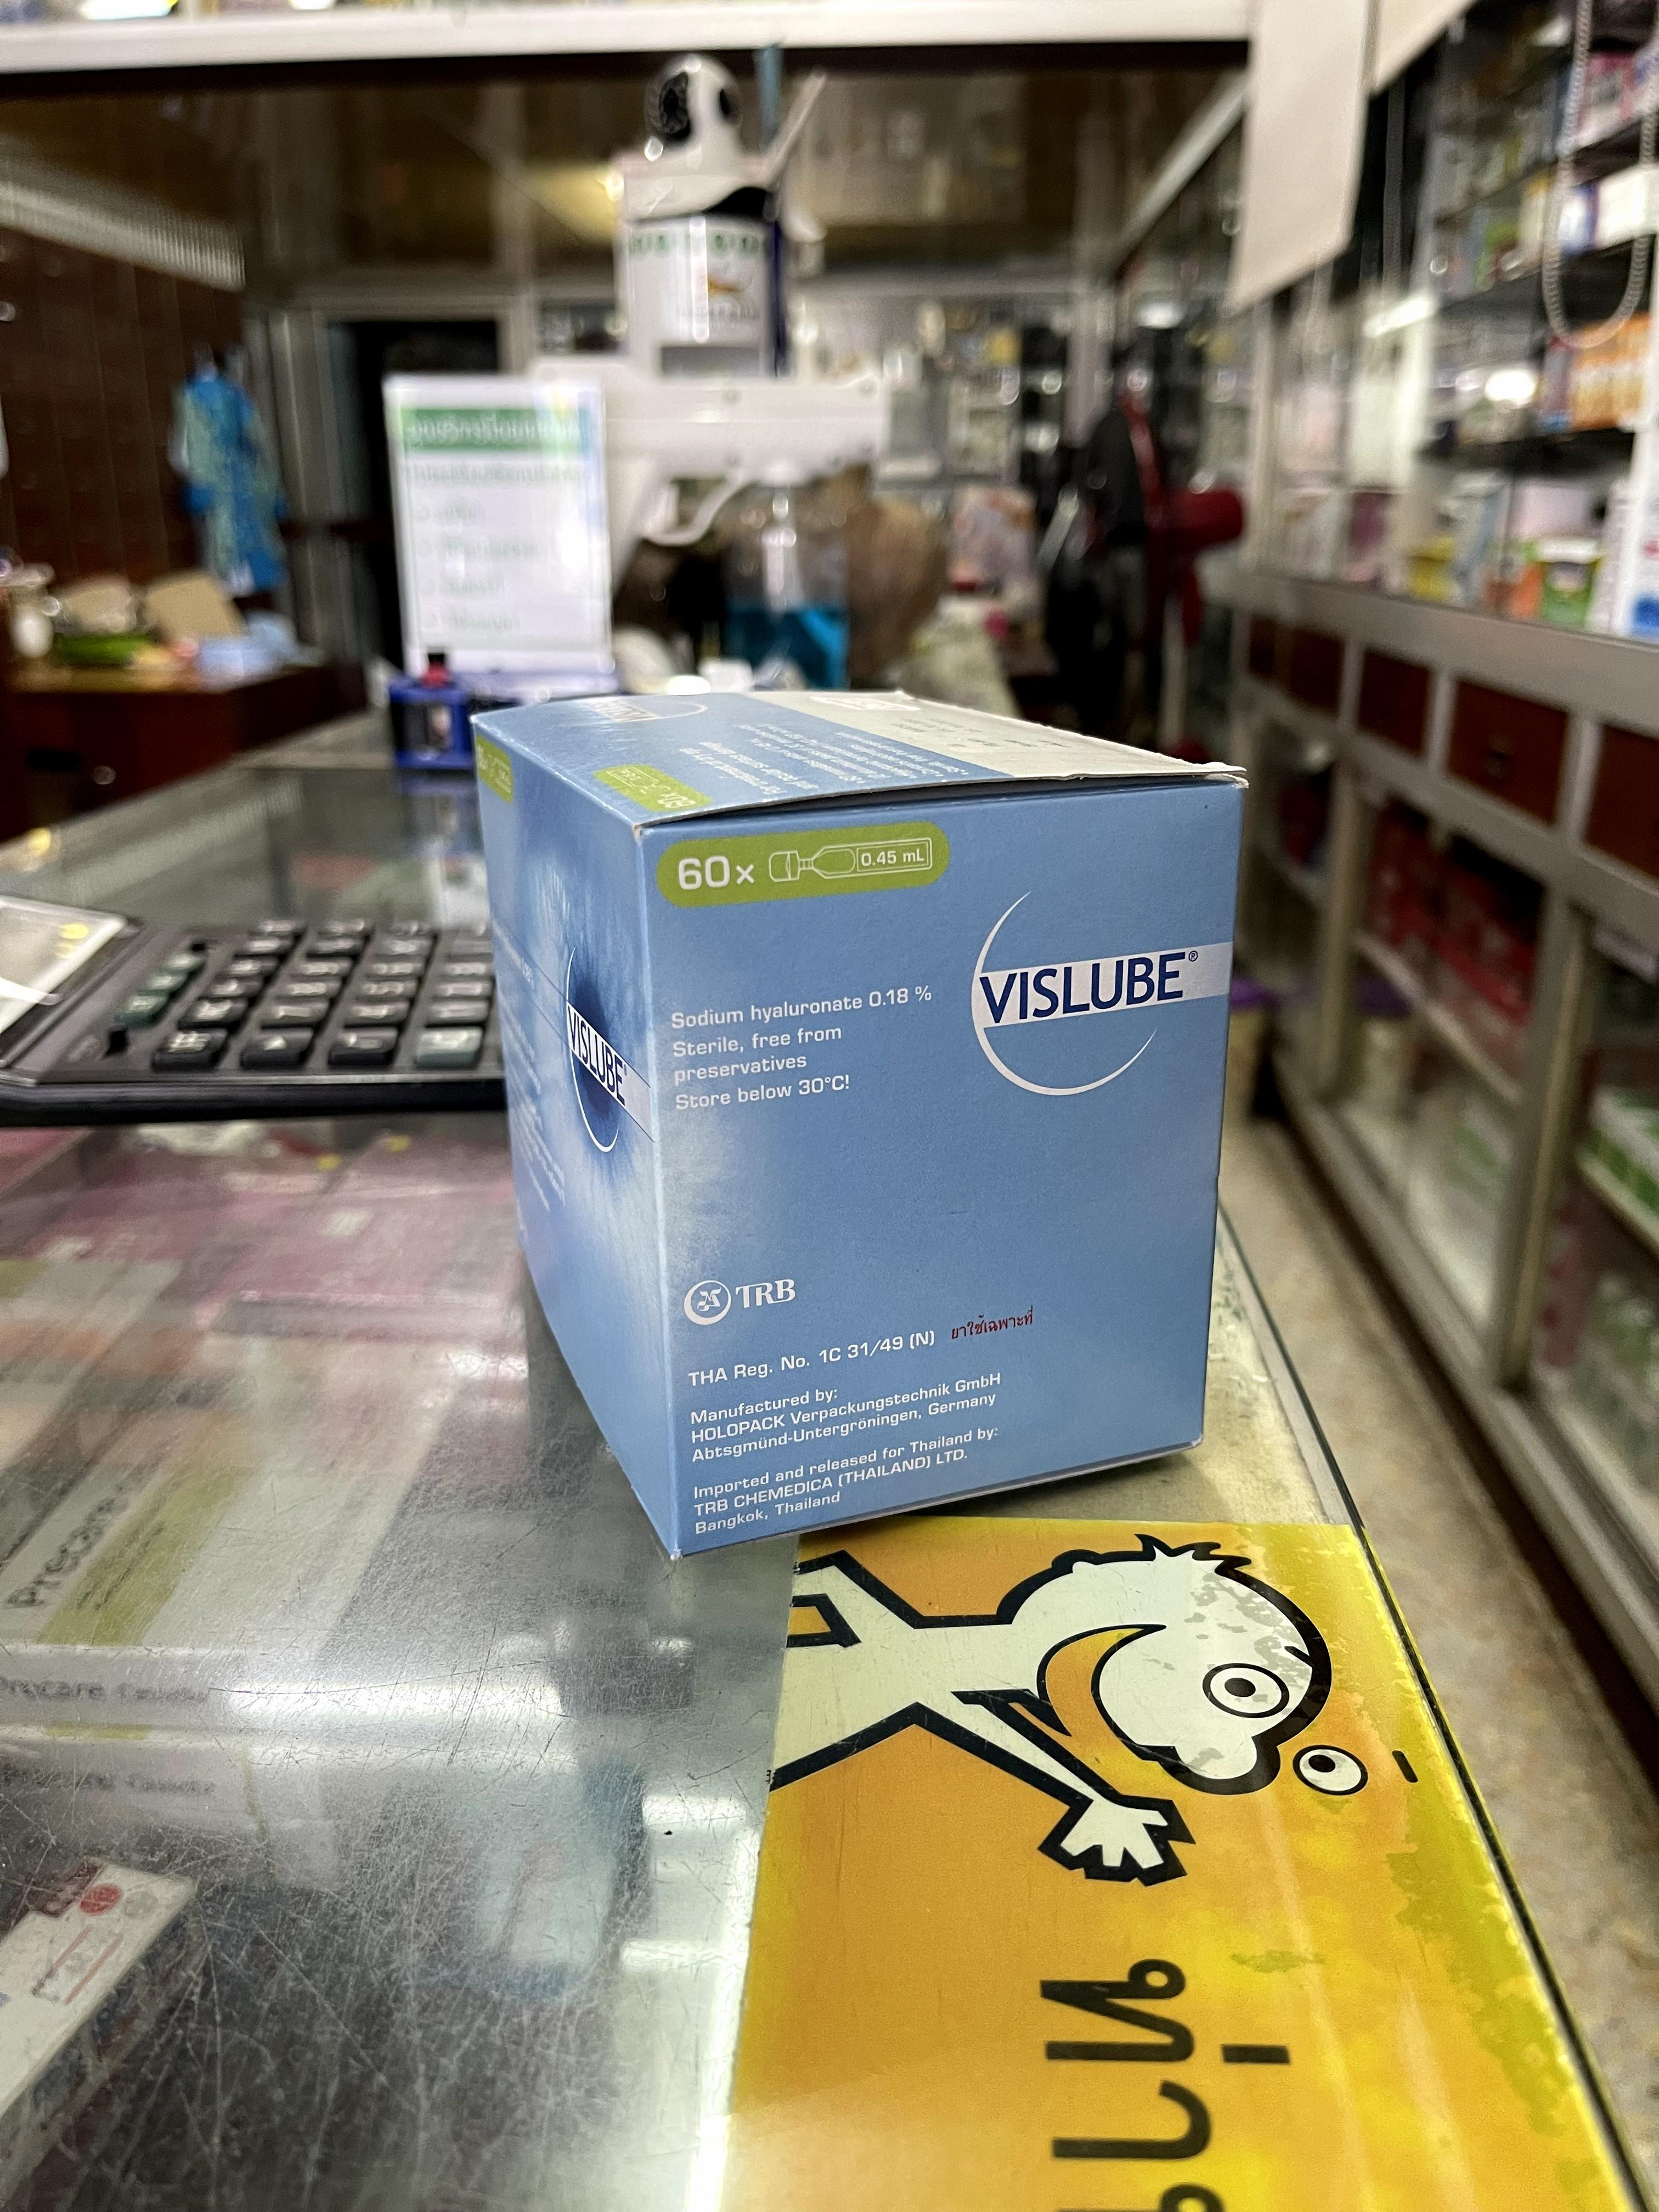Vislube60: (479, 688, 1237, 1552)
